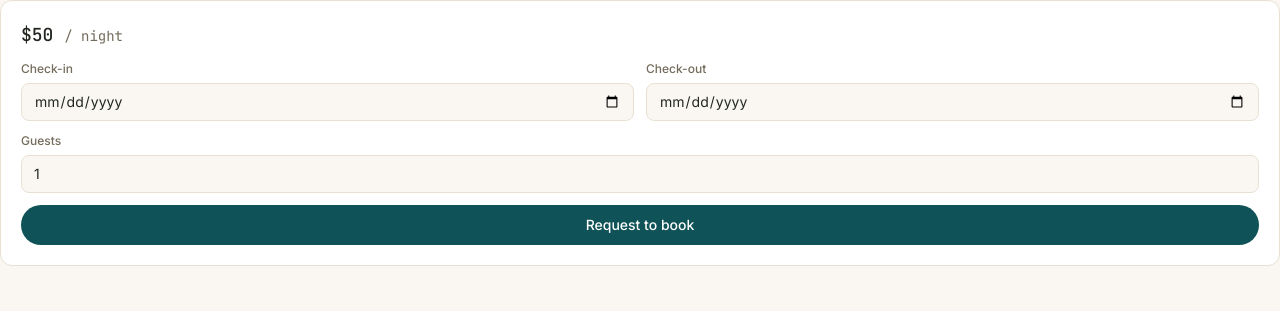
Test: BookingForm › shows a validation error when check-out is before check-in
Type "2030-06-10" into the date field labelled "Check-in".
click(328, 102); type("2030-06-10")  # box [21, 83, 634, 121]
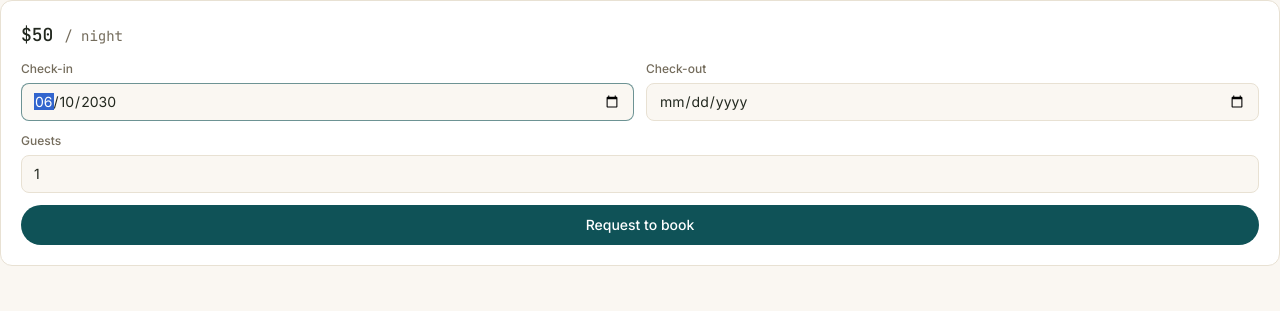
Type "2030-06-05" into the date field labelled "Check-out".
click(952, 102); type("2030-06-05")  # box [646, 83, 1259, 121]
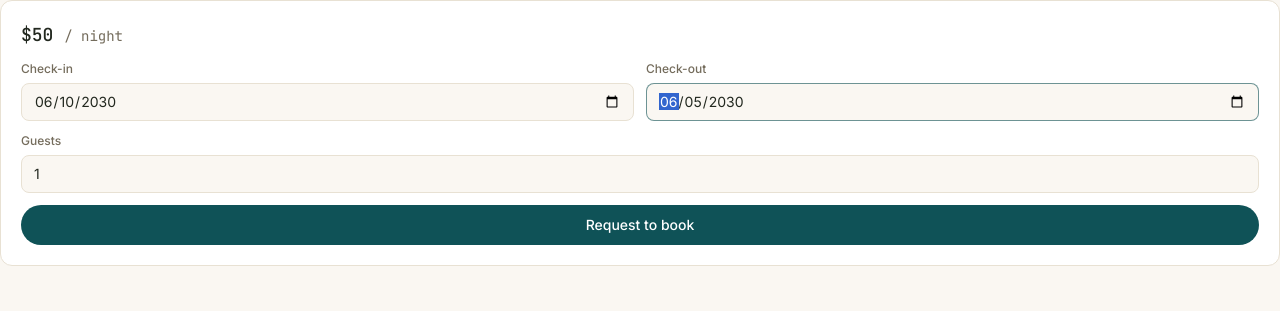
Click the button "Request to book".
click(640, 225)  # box [21, 205, 1259, 245]
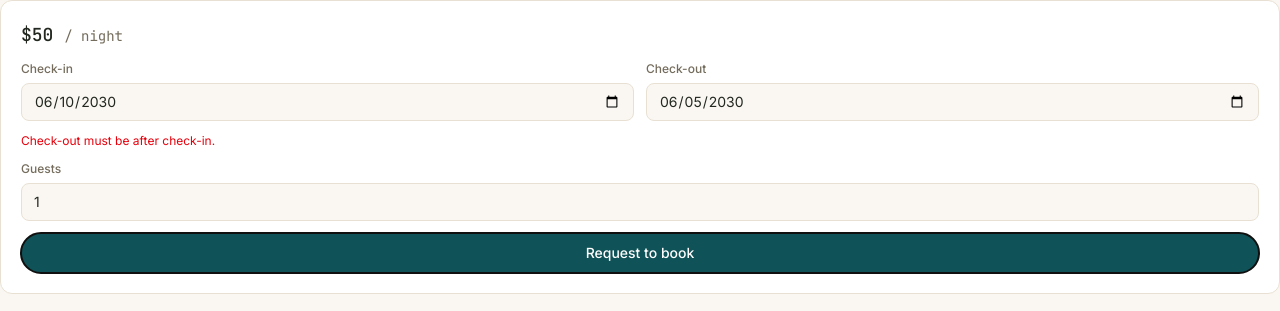
Expected: the message shows "after check-in", [21, 133, 215, 148]
